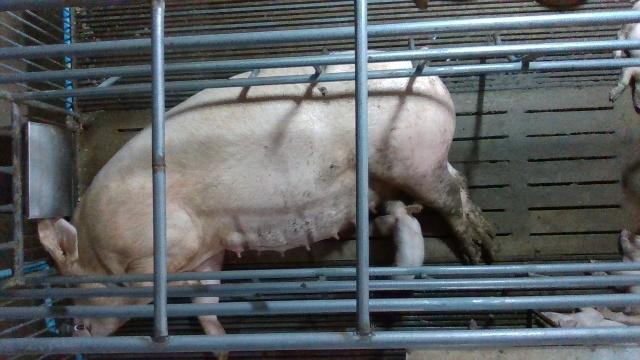piglet: (378, 198, 424, 281)
sow-sleep-lactate: (37, 51, 496, 359)
